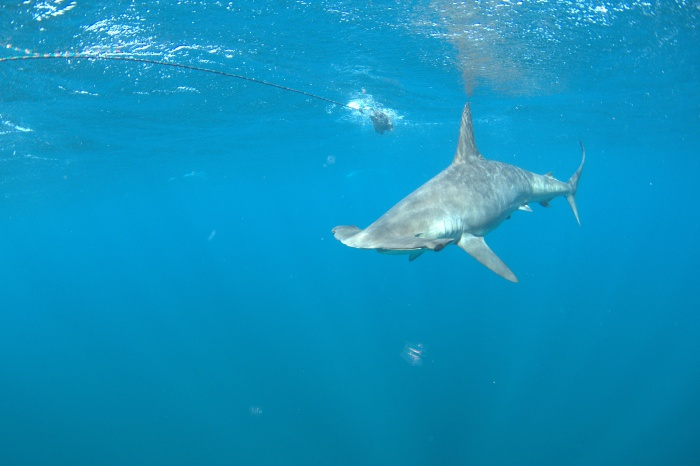Hammer: (321, 91, 602, 299)
